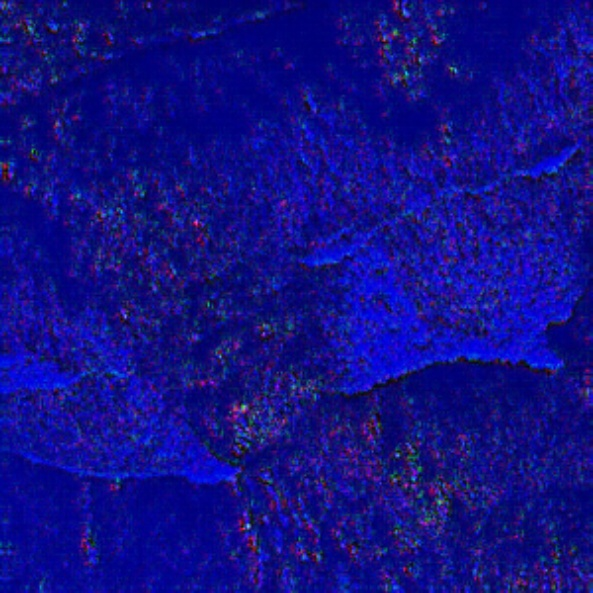rip_current: (74, 147, 388, 480)
